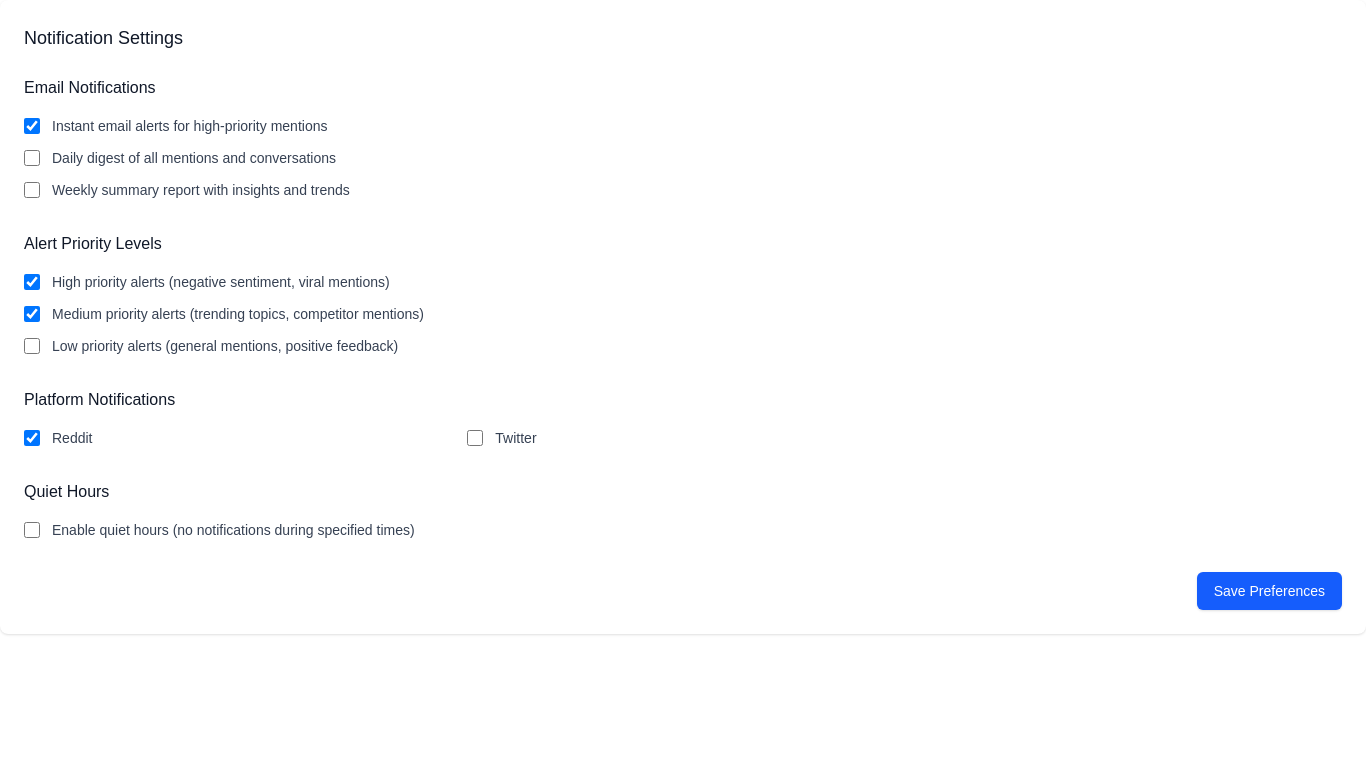
Test: NotificationSettings › displays success message after successful update
The width and height of the screenshot is (1366, 768).
Click the button "Save Preferences".
click(1269, 591)  # box left=1197, top=572, right=1342, bottom=610
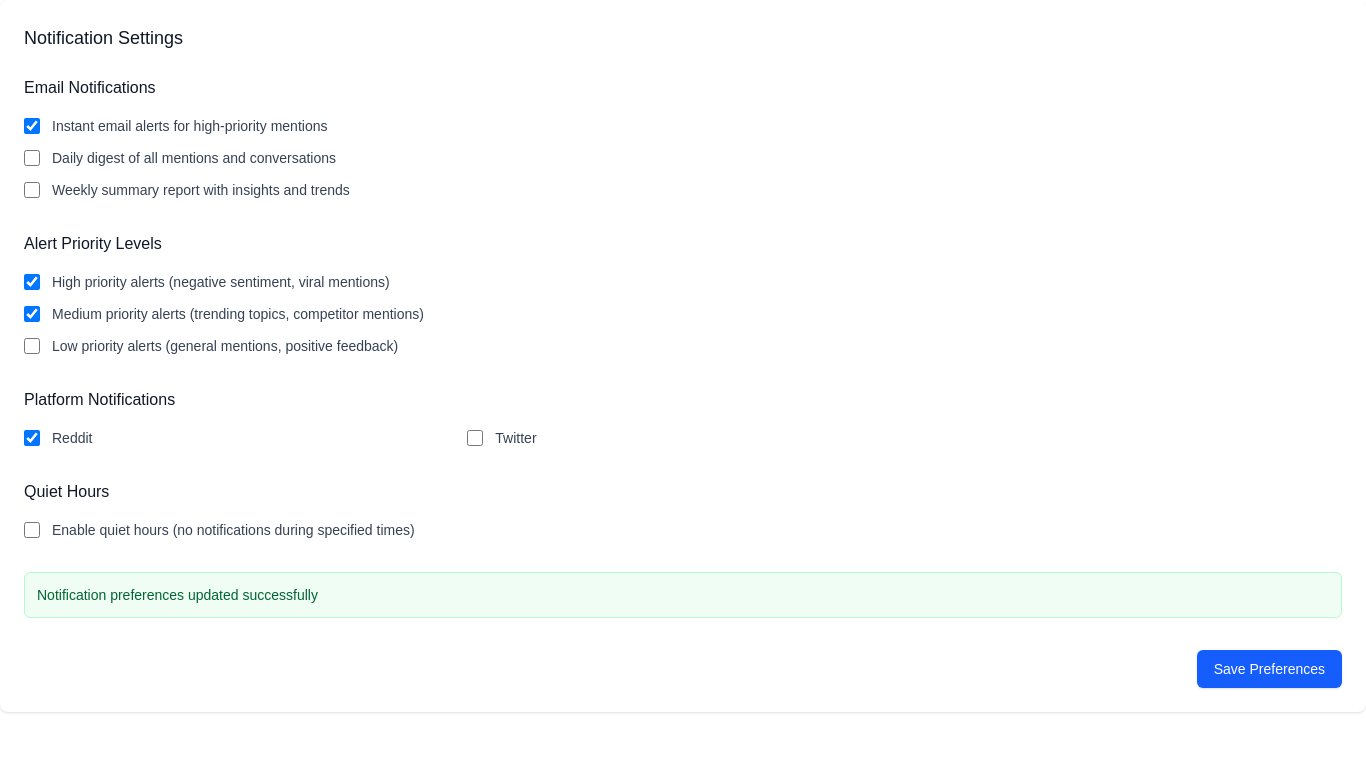
Expected: the text "Notification preferences updated successfully" is shown, left=37, top=587, right=318, bottom=603
